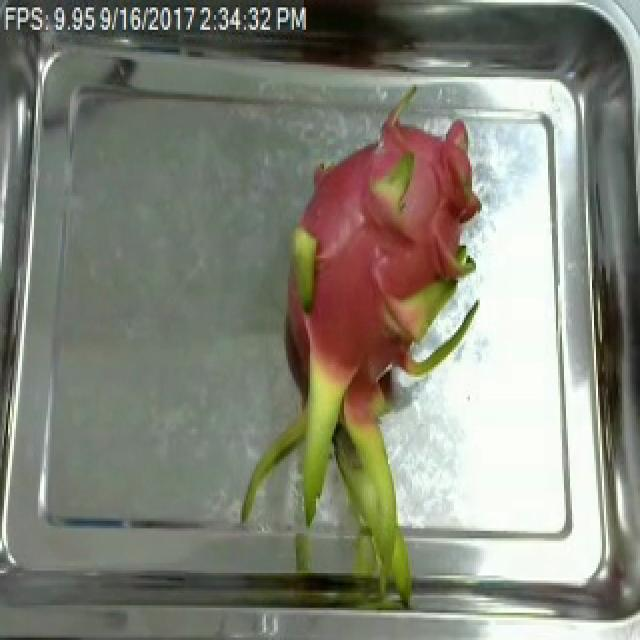fruit: (234, 134, 504, 575)
